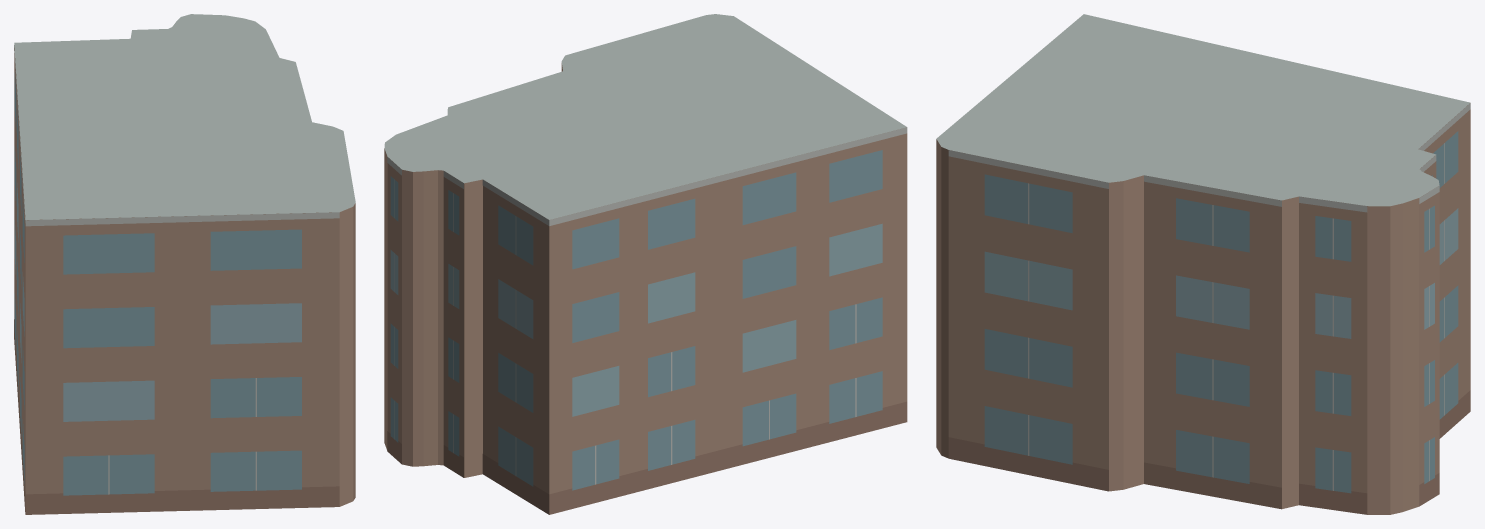
Rendered from survey-upis-32922166.glb.
3 renders of one model, left to right at view 1: azimuth 30°, elevation 25°; view 2: azimuth 150°, elevation 25°; view 3: azimuth 270°, elevation 25°, orthographic. The views are drawn at different scales.
Visible parts, largest first — view 1: survey-upis-32922166.tmp; view 2: survey-upis-32922166.tmp; view 3: survey-upis-32922166.tmp.
Boxes of the visible parts, x1,y1,x2,y2 form: survey-upis-32922166.tmp: (14,14,355,514); survey-upis-32922166.tmp: (384,14,907,514); survey-upis-32922166.tmp: (936,14,1470,514).
Size of the model in its own units: 15.63 by 11.7 by 18.36.
